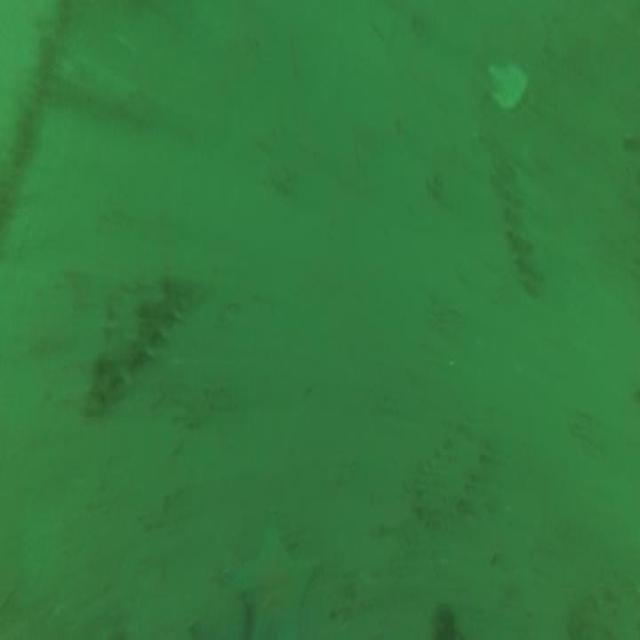holothurian: (82, 273, 196, 414), (420, 412, 494, 530), (501, 184, 548, 296)
scallop: (490, 55, 527, 109)
starfish: (229, 521, 313, 640)
